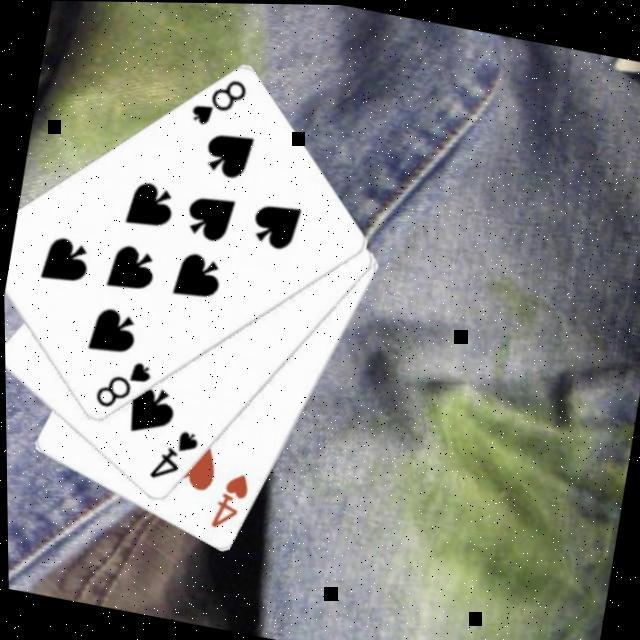4H: (205, 463, 255, 535)
4S: (145, 419, 205, 487)
8S: (186, 67, 254, 135), (91, 349, 159, 416)
